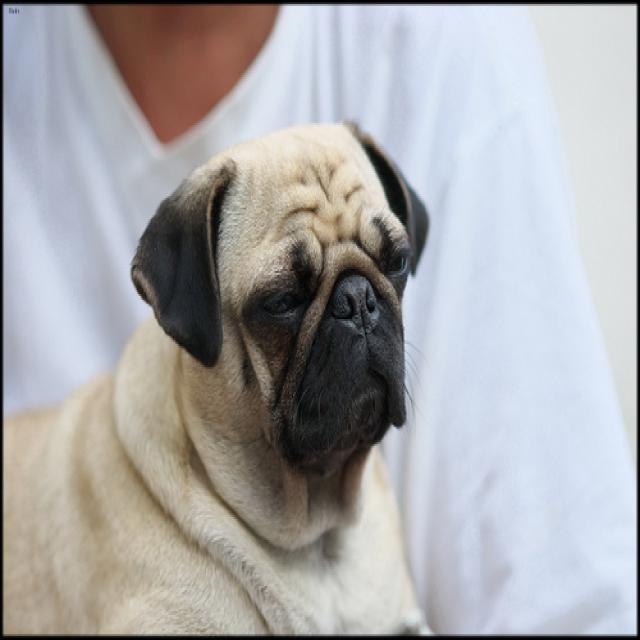dog-pug: (1, 100, 438, 636)
